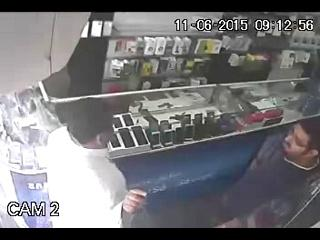Normal: (152, 108, 320, 227)
